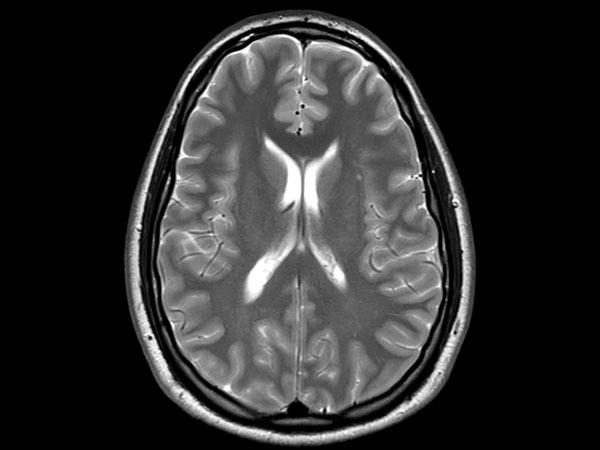Normal_Brain: (81, 1, 600, 450)
